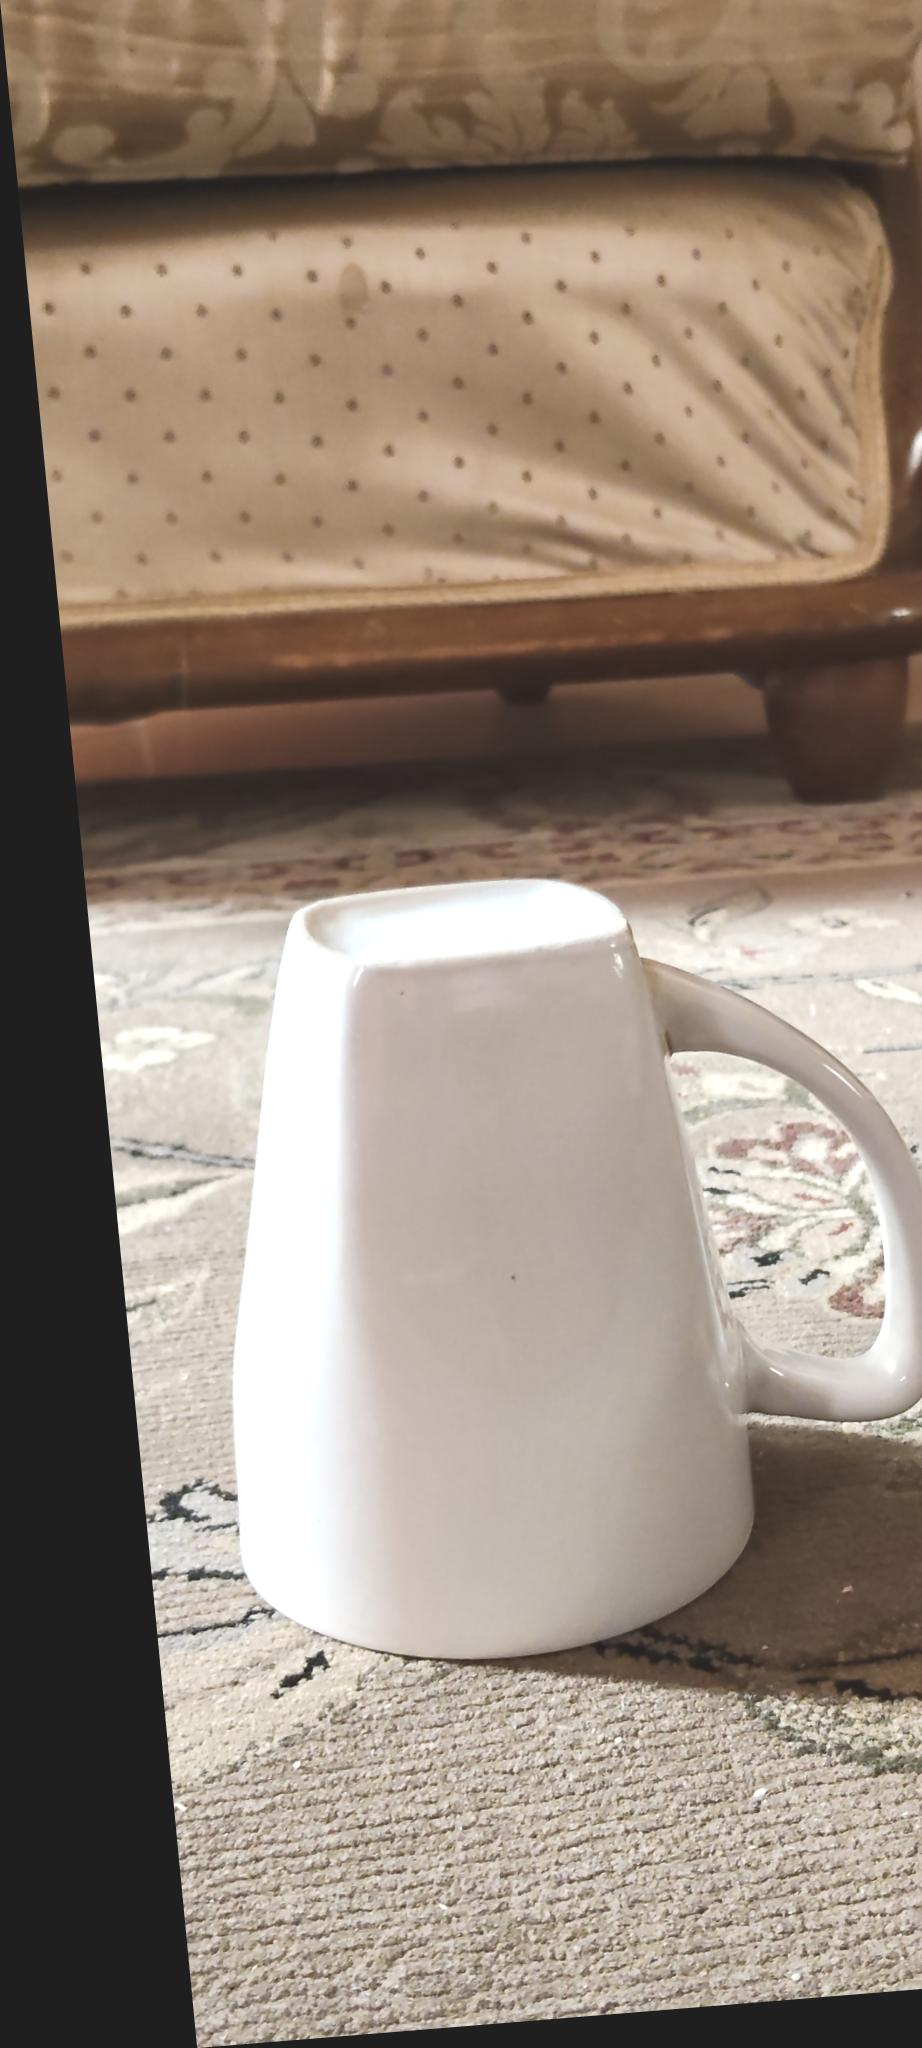Mug: (179, 853, 922, 1679)
